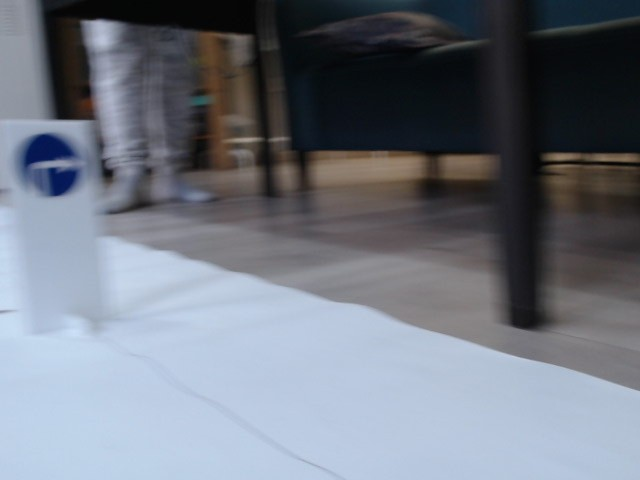Right: (19, 134, 81, 196)
